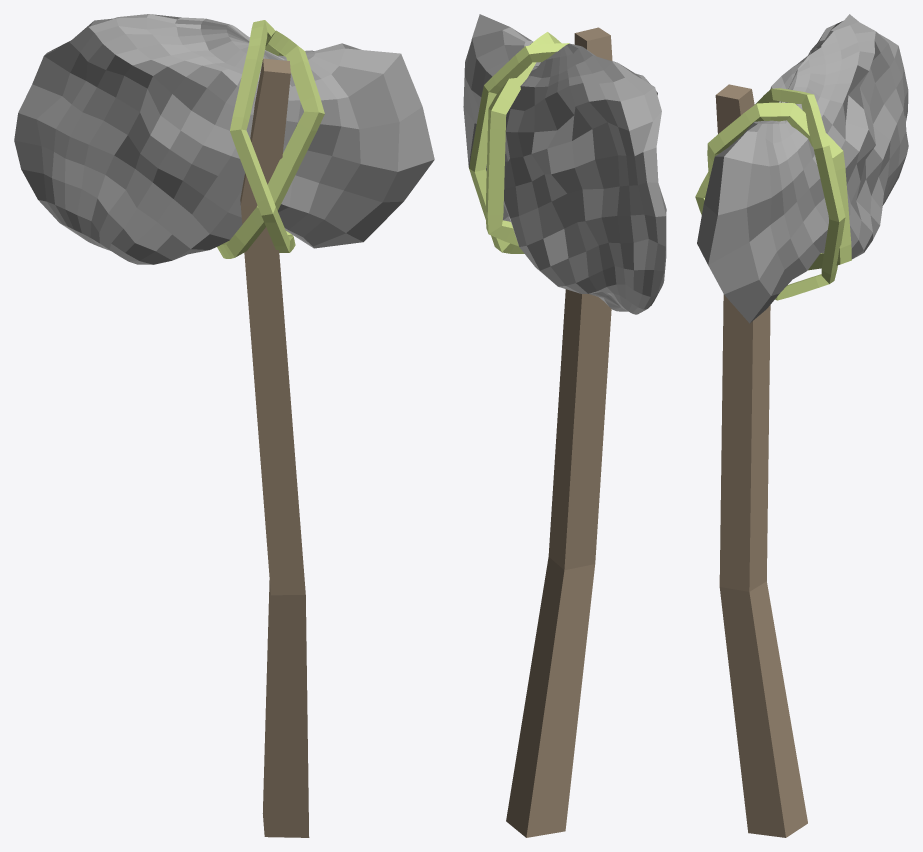
The model's file is axe.fbx.
The picture shows the model from 3 angles, left to right: view 1: azimuth 30°, elevation 25°; view 2: azimuth 150°, elevation 25°; view 3: azimuth 270°, elevation 25°; orthographic projection. The views are drawn at different scales.
Parts seen in each view (by area): view 1: axe; view 2: axe; view 3: axe.
Part boxes in pixels (bbox=[...]): axe: bbox=[14, 14, 434, 837]; axe: bbox=[463, 14, 666, 837]; axe: bbox=[695, 14, 908, 837].
Bounding box in the file's own units: 220 × 551 × 142.
